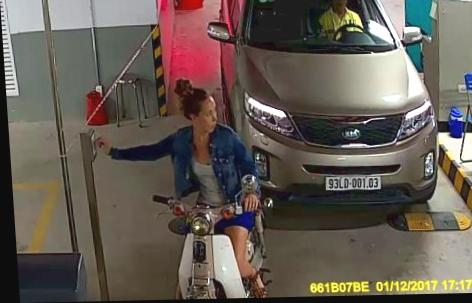License_Plate: (325, 173, 383, 194)
